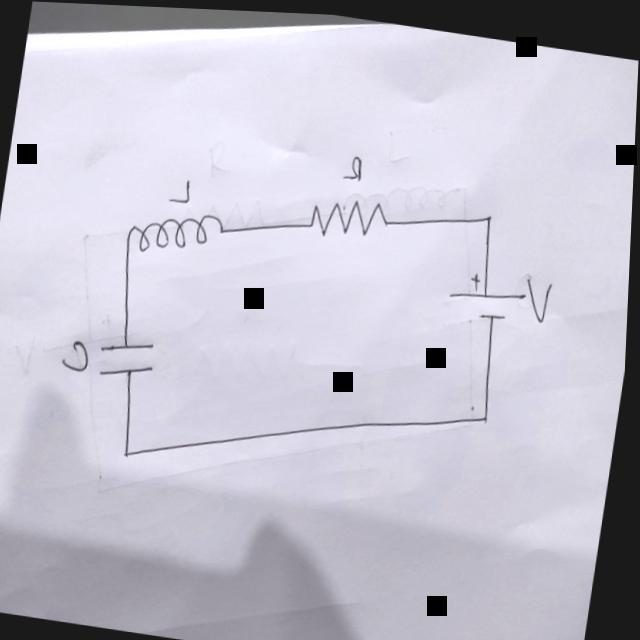capacitor: (98, 330, 162, 383)
inductor: (126, 199, 230, 262)
junction: (484, 205, 497, 223), (125, 444, 138, 460), (485, 408, 493, 419)
resistor: (302, 181, 400, 245)
source: (447, 262, 533, 321)
text: (523, 270, 557, 320), (63, 335, 95, 373), (342, 147, 368, 182), (169, 174, 197, 204)
